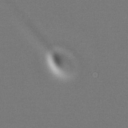normal: (1, 1, 51, 51)
